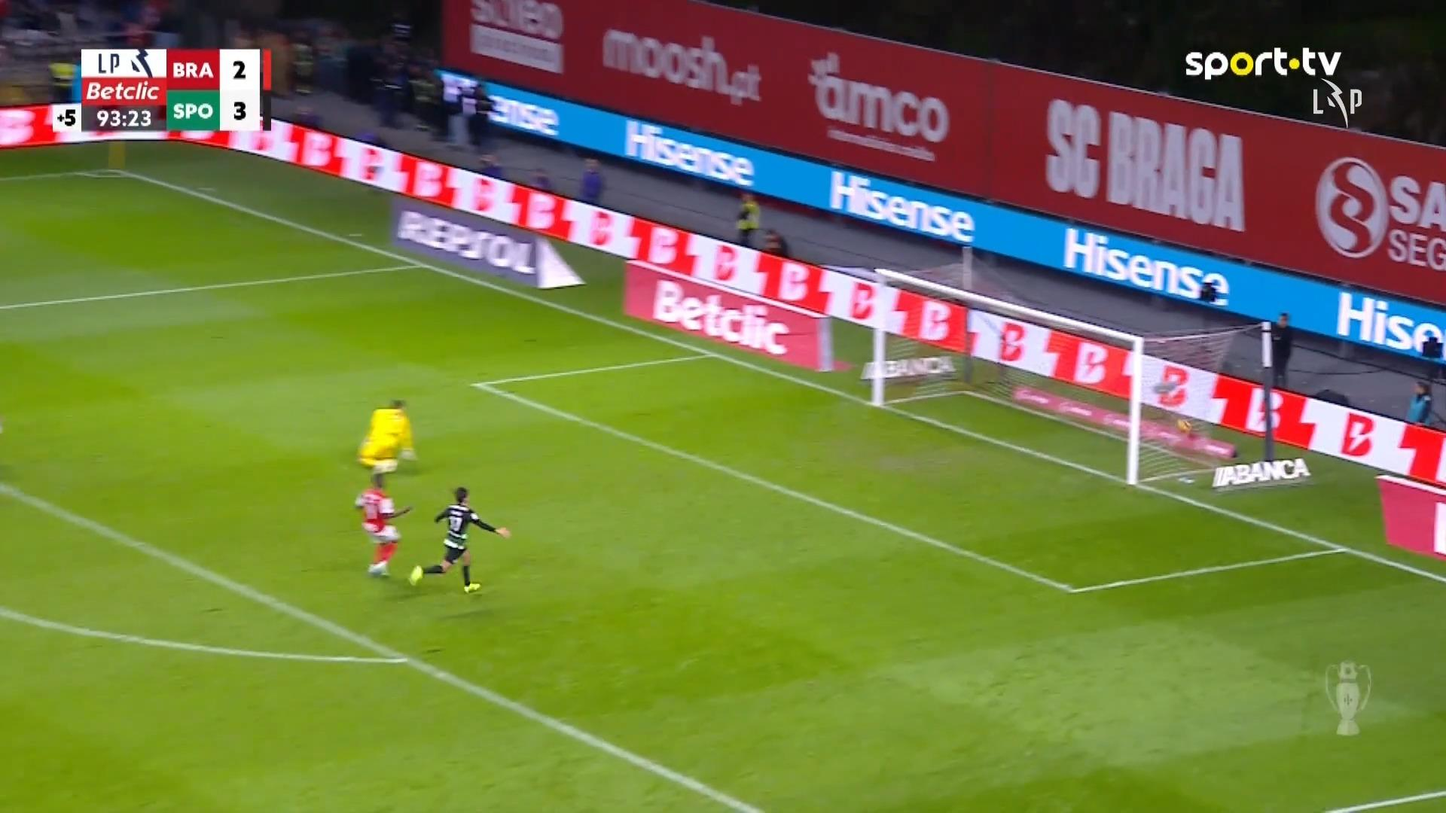ball: (1176, 418, 1191, 433)
goalkeeper: (355, 397, 417, 489)
player: (407, 486, 511, 593), (353, 471, 412, 577)
